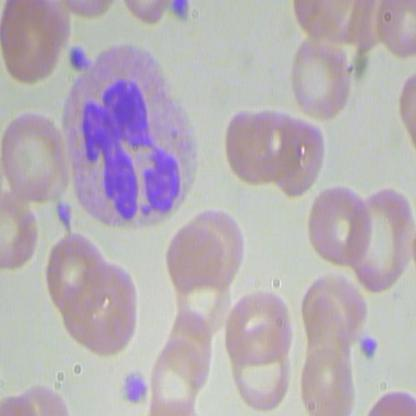Platelets: (122, 370, 150, 407), (64, 42, 93, 74), (50, 199, 75, 232), (356, 335, 378, 361), (168, 1, 193, 23)
RBC: (342, 184, 414, 295), (221, 281, 295, 367), (289, 36, 354, 120), (306, 182, 371, 266), (2, 113, 67, 197), (41, 231, 106, 315), (1, 1, 65, 84), (218, 110, 284, 188), (229, 337, 295, 415), (166, 223, 234, 296)
WBC: (60, 39, 214, 231)
